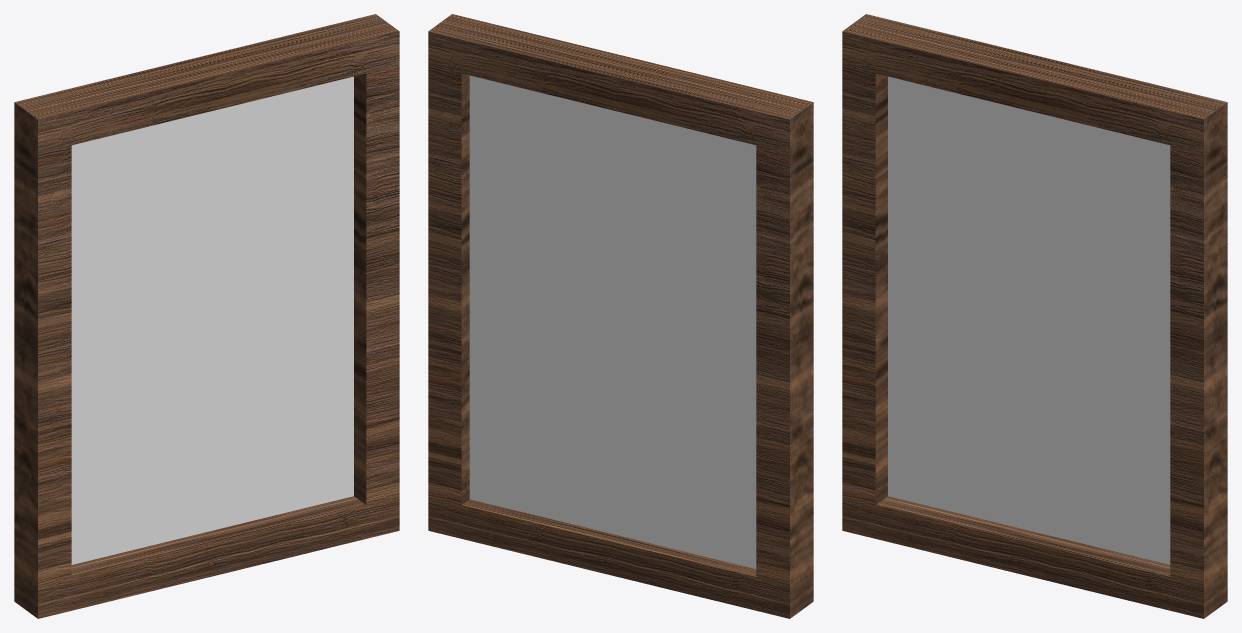
Rendered from window.gltf.
3 renders of one model, left to right at view 1: azimuth 30°, elevation 25°; view 2: azimuth 150°, elevation 25°; view 3: azimuth 330°, elevation 25°, orthographic.
Parts seen in each view (by area): view 1: Boxin, 창틀; view 2: Boxin, 창틀; view 3: Boxin, 창틀.
Part boxes in pixels (<box>): Boxin: <box>71,76,353,564</box>; 창틀: <box>14,14,399,618</box>; Boxin: <box>469,75,756,568</box>; 창틀: <box>428,14,813,618</box>; Boxin: <box>888,76,1170,564</box>; 창틀: <box>842,14,1227,618</box>.
Size of the model in its own units: 3.76 by 4.97 by 0.4308.
2 materials, 1 textured.
